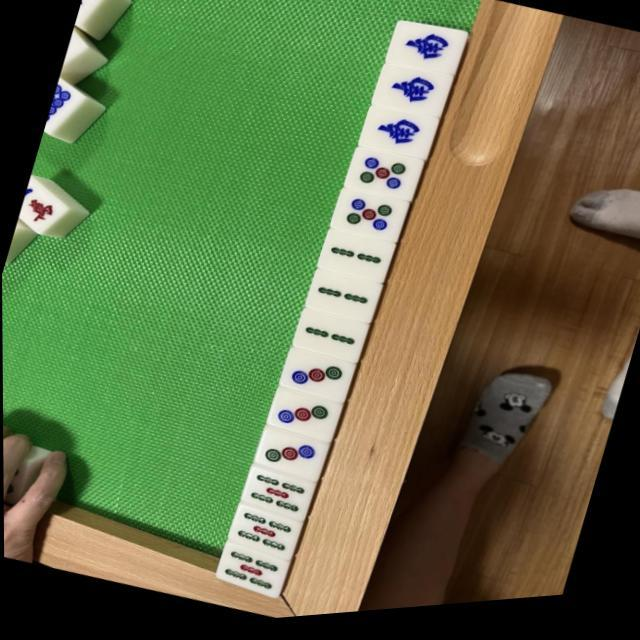hws: (390, 22, 463, 84), (360, 107, 432, 169), (376, 68, 446, 126)
sb2: (293, 310, 364, 368), (307, 272, 378, 328), (322, 233, 391, 288)
sb5: (226, 508, 299, 566), (216, 546, 286, 601), (244, 469, 310, 524)
sd3: (269, 392, 336, 447), (282, 352, 348, 407), (258, 433, 321, 482)
sd5: (337, 194, 404, 251), (350, 154, 412, 206)
